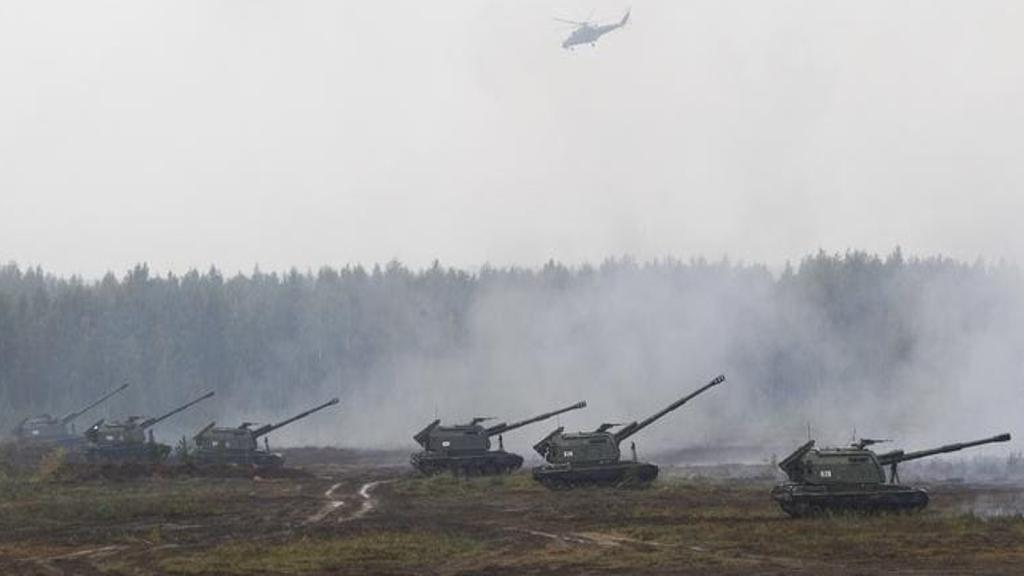ART: (535, 369, 729, 486), (770, 427, 1013, 516), (410, 395, 590, 480), (193, 395, 342, 467), (86, 389, 215, 463), (10, 380, 131, 452)
